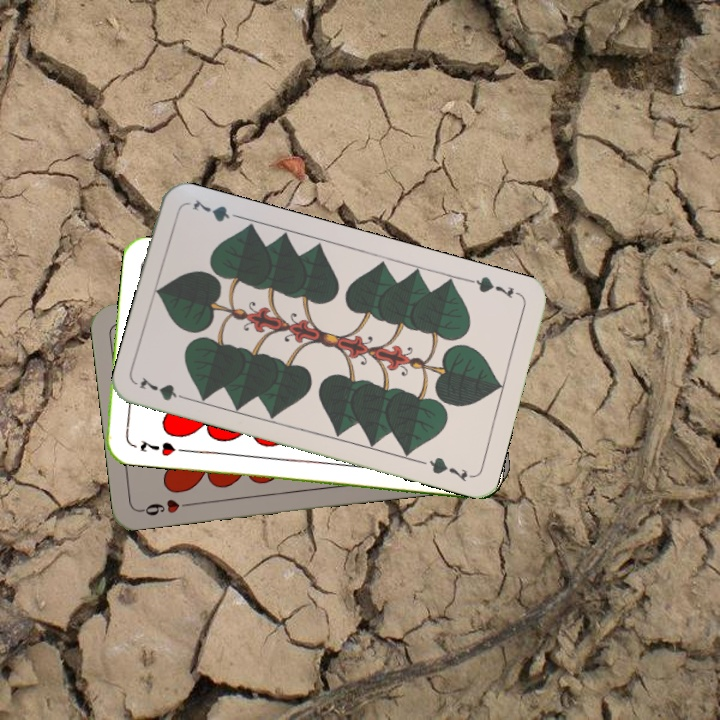G7: (135, 373, 193, 404), (465, 272, 523, 302)
H7: (136, 436, 178, 459)
H9: (137, 495, 196, 518)
